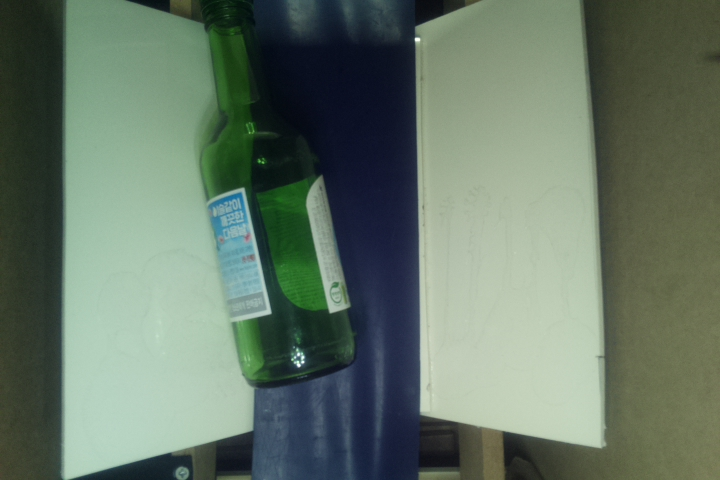soju: (191, 1, 361, 390)
